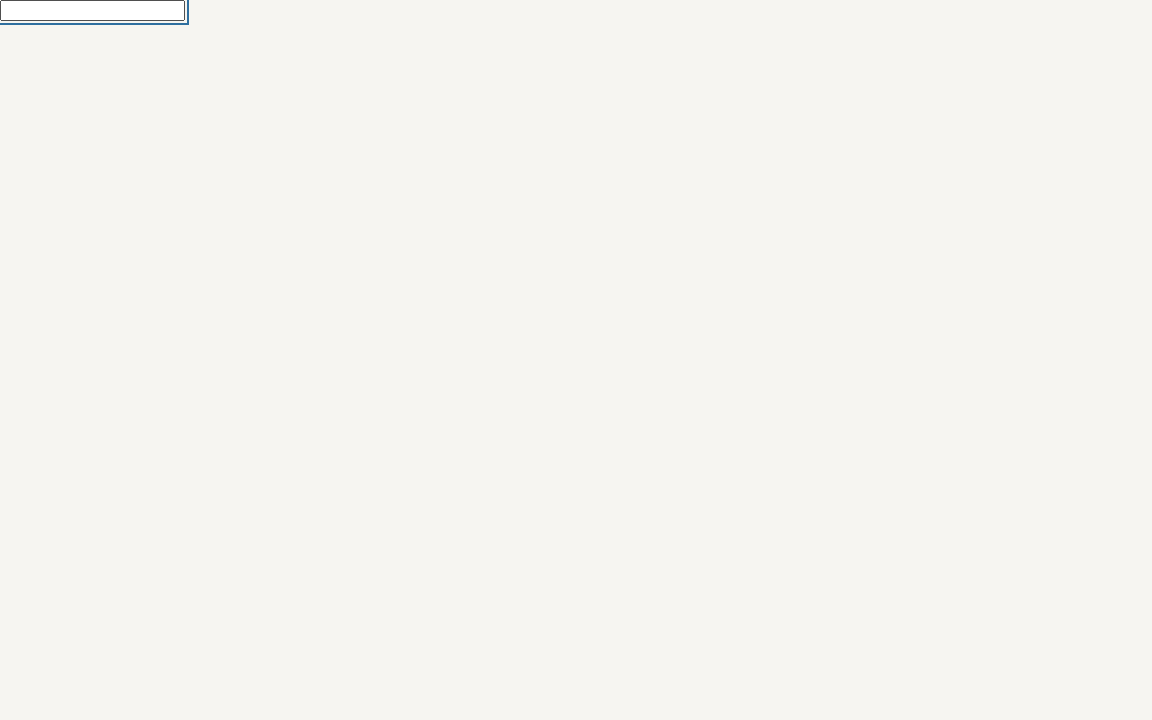
Test case: command palette › filters commands as you type, then lists search results with markers
Press k in the field named "other", box [0,0,185,21]
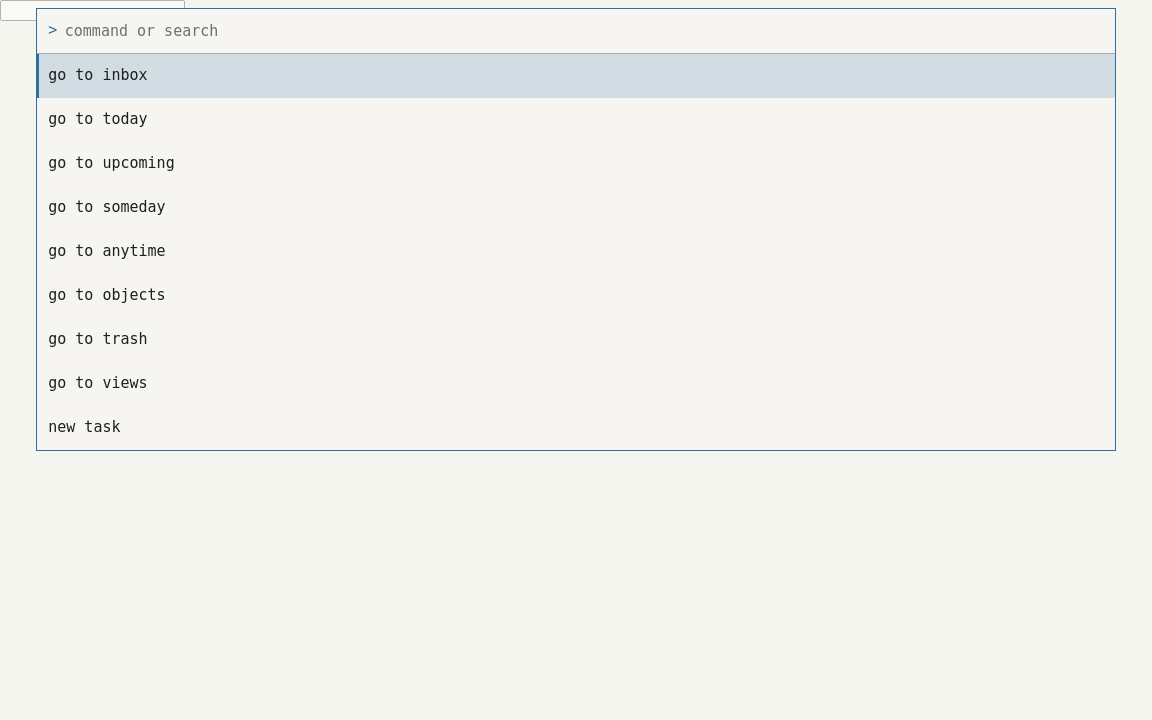
Type "TODAY" into the dropdown named "palette" at (584, 30), box [65,8,1104,52]
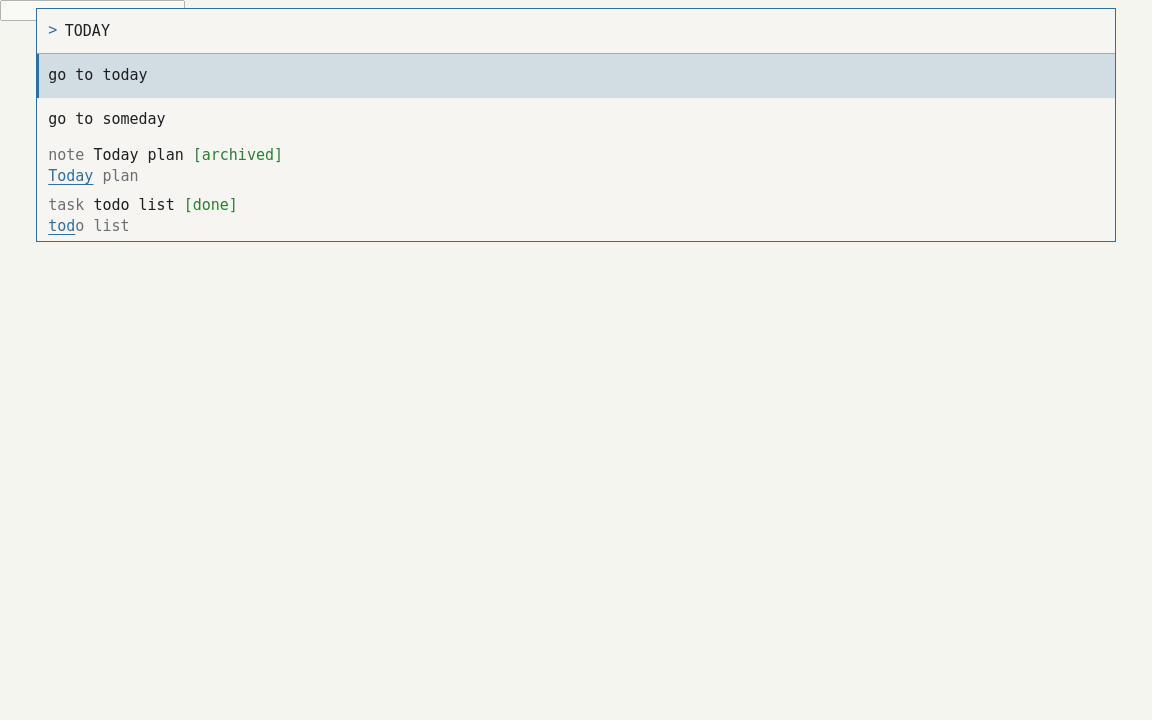
Expected: the option "go to today" is shown, [37,54,1115,98]
Expected: the option "go to someday" is shown, [48,110,166,128]
Expected: the number of options is 4, [37,54,1115,98]; [48,110,166,128]; [48,146,283,185]; [48,196,238,235]
